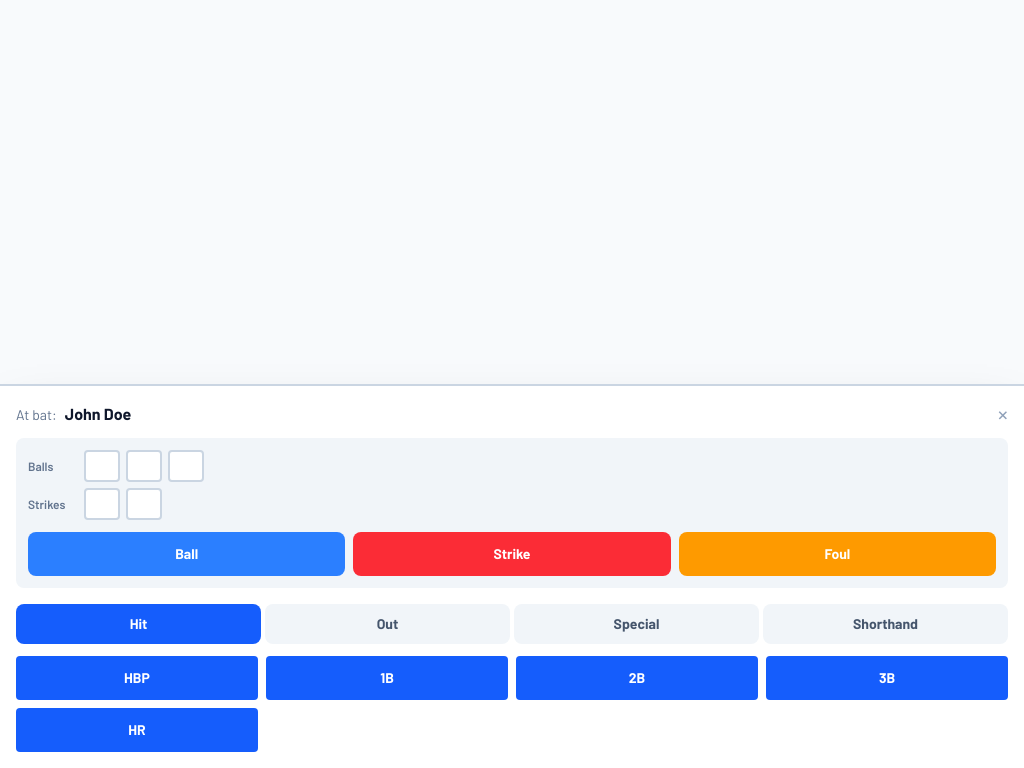
PlayEntryPanel › switches to Special tab and shows special play buttons
This screenshot has width=1024, height=768.
Click the button "Special" at [636, 624], box [514, 604, 759, 644]
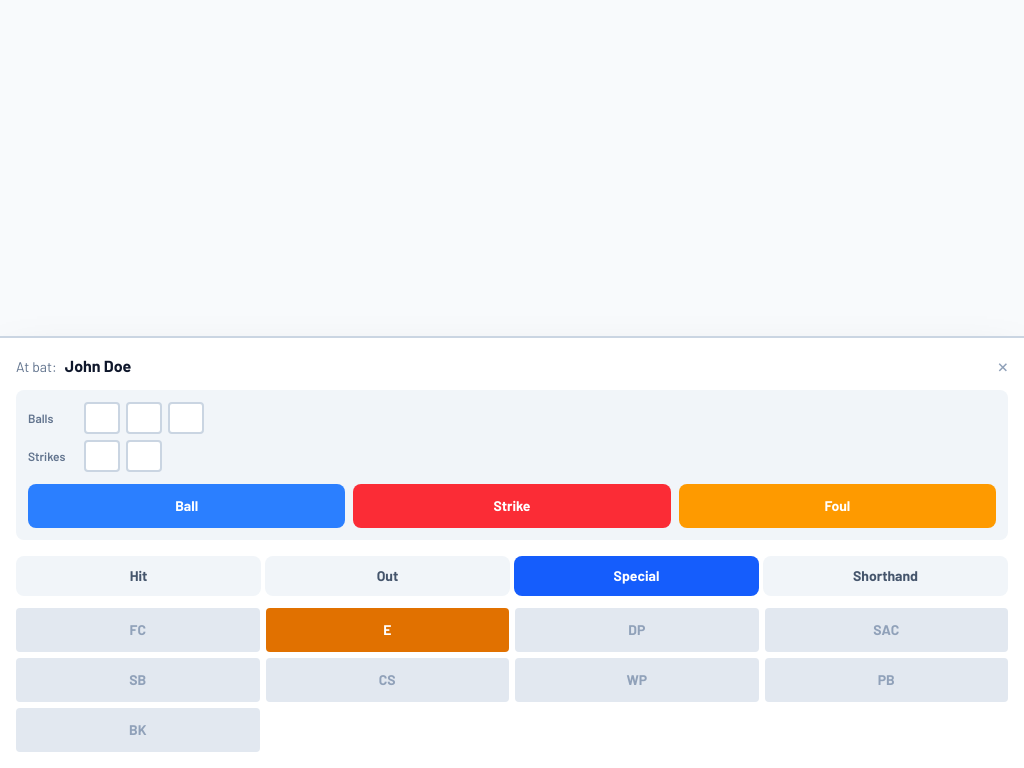
Result: the button "FC" is shown at [16, 608, 260, 652]
Result: the button "SB" is shown at [16, 658, 260, 702]
Result: the button "1B" is gone
